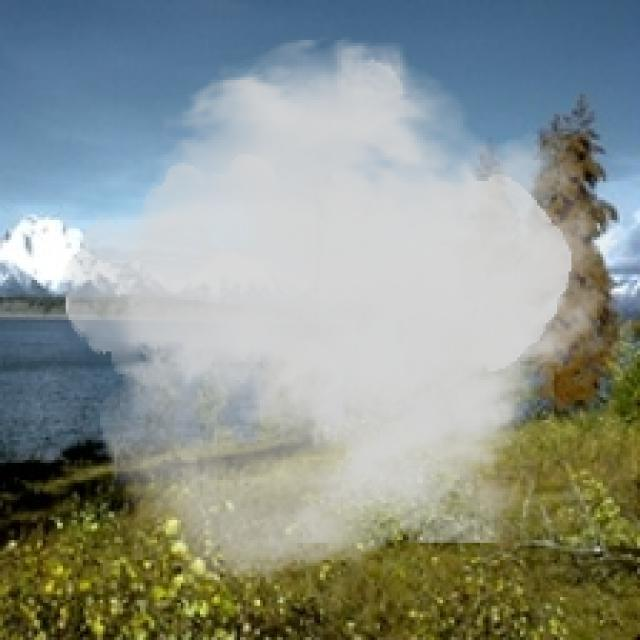Smoke: (62, 31, 628, 592)
